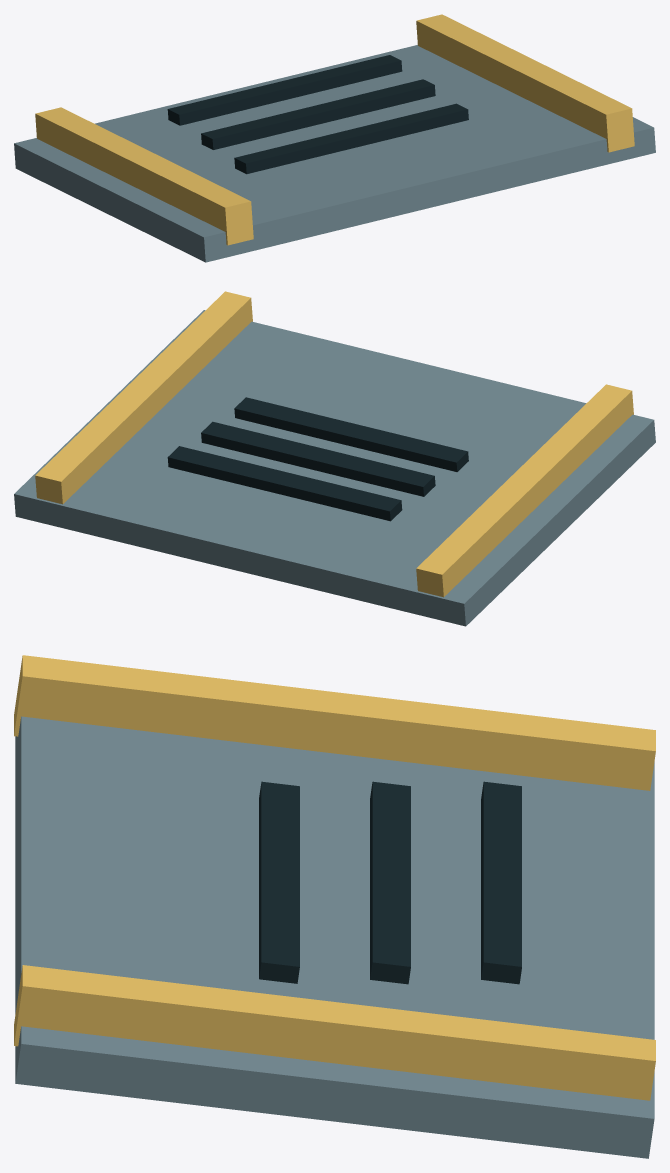
File: upgrade-hood_plate.glb
3 renders of one model, top to bottom at view 1: azimuth 30°, elevation 25°; view 2: azimuth 150°, elevation 25°; view 3: azimuth 270°, elevation 25°, orthographic. The views are drawn at different scales.
Visible parts, largest first — view 1: upgrade-hood_plate; view 2: upgrade-hood_plate; view 3: upgrade-hood_plate.
Part boxes in pixels (box(x1,y1,x2,y2)): upgrade-hood_plate: box(14, 14, 655, 262); upgrade-hood_plate: box(14, 291, 655, 626); upgrade-hood_plate: box(14, 655, 655, 1158).
Size of the model in its own units: 1.56 by 0.3082 by 1.16.
